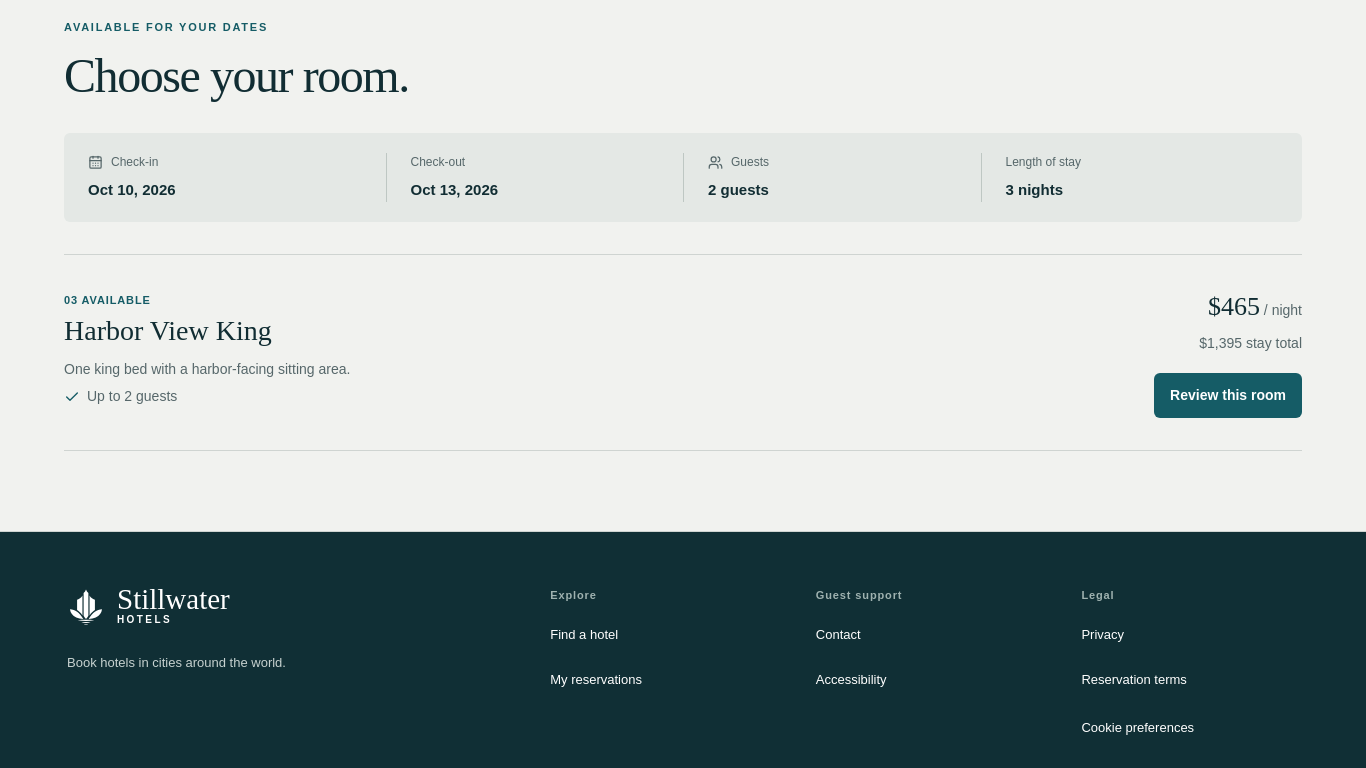
Test: customer application › shows only API-provided room totals and carries the stay into review
The width and height of the screenshot is (1366, 768).
(page scrolled)
Expected: the heading "Harbor View King" is shown, [64,315,272,346]
Expected: the text "$1,395 stay total" is shown, [1199,332,1302,354]
Click the link "Review this room". click: (1228, 395)
box: [1154,373,1302,418]
(page scrolled)
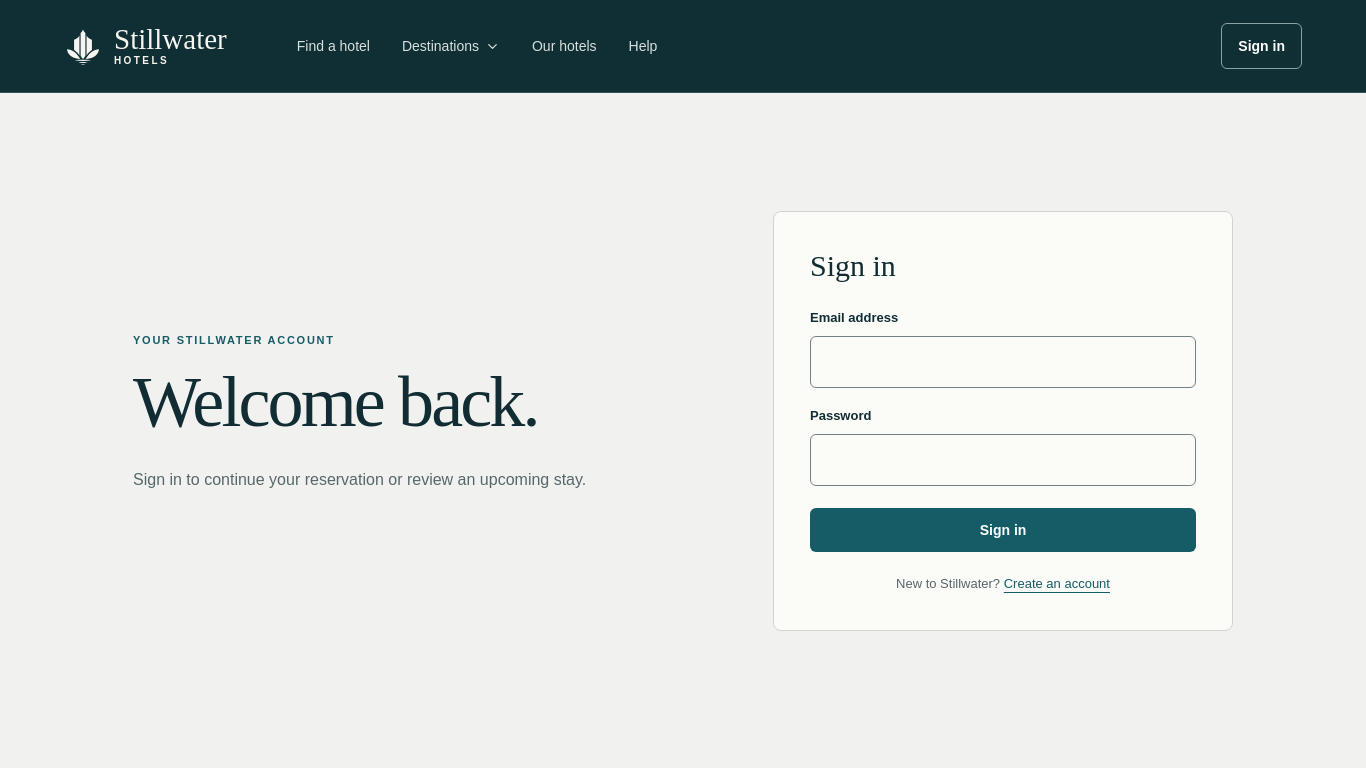
Expected: the heading "Welcome back." is shown, [133,362,538,442]
